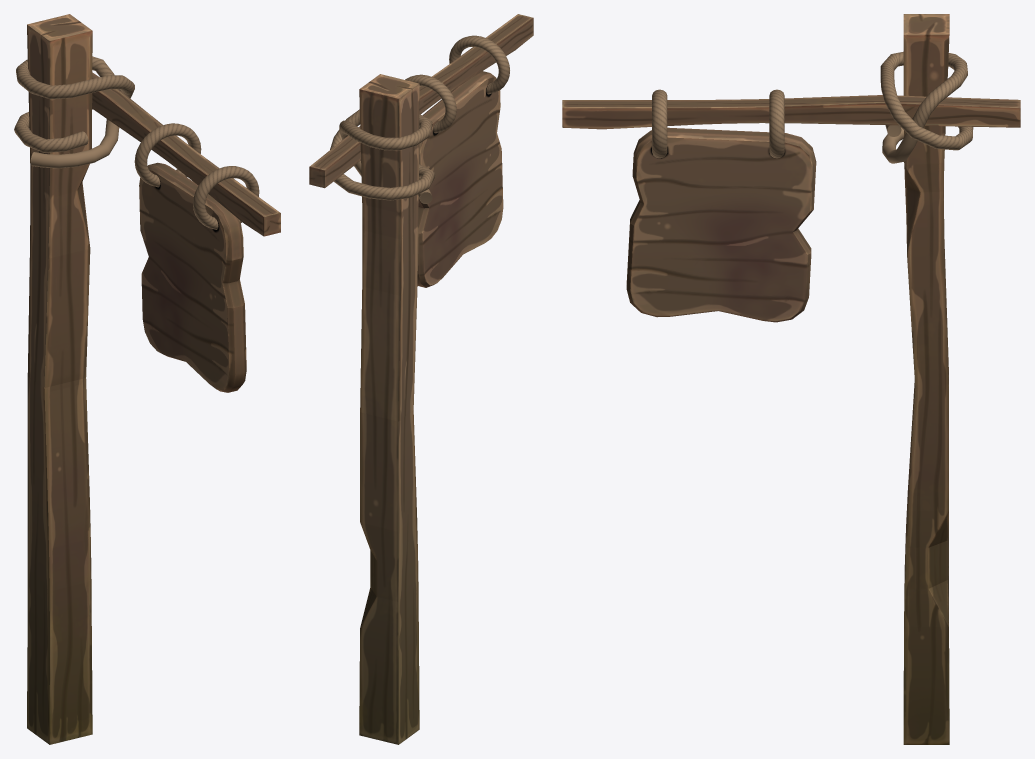
The model's file is SM_Sign_02.fbx.
3 views of the same model, side by side, from view 1: azimuth 30°, elevation 25°; view 2: azimuth 150°, elevation 25°; view 3: azimuth 270°, elevation 25° (orthographic). The views are drawn at different scales.
Visible parts, largest first — view 1: SM_Sign_02_LOD0; view 2: SM_Sign_02_LOD0; view 3: SM_Sign_02_LOD0.
Part boxes in pixels (<box>): SM_Sign_02_LOD0: <box>14,14,280,744</box>; SM_Sign_02_LOD0: <box>309,14,533,744</box>; SM_Sign_02_LOD0: <box>562,14,1020,744</box>.
Size of the model in its own units: 58.89 by 218 by 372.
Materials: 1 (1 with a texture image).
